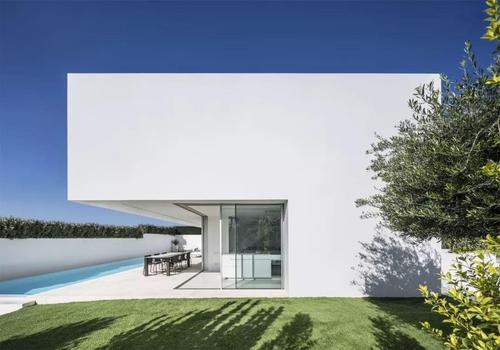buildings: (67, 71, 475, 299)
